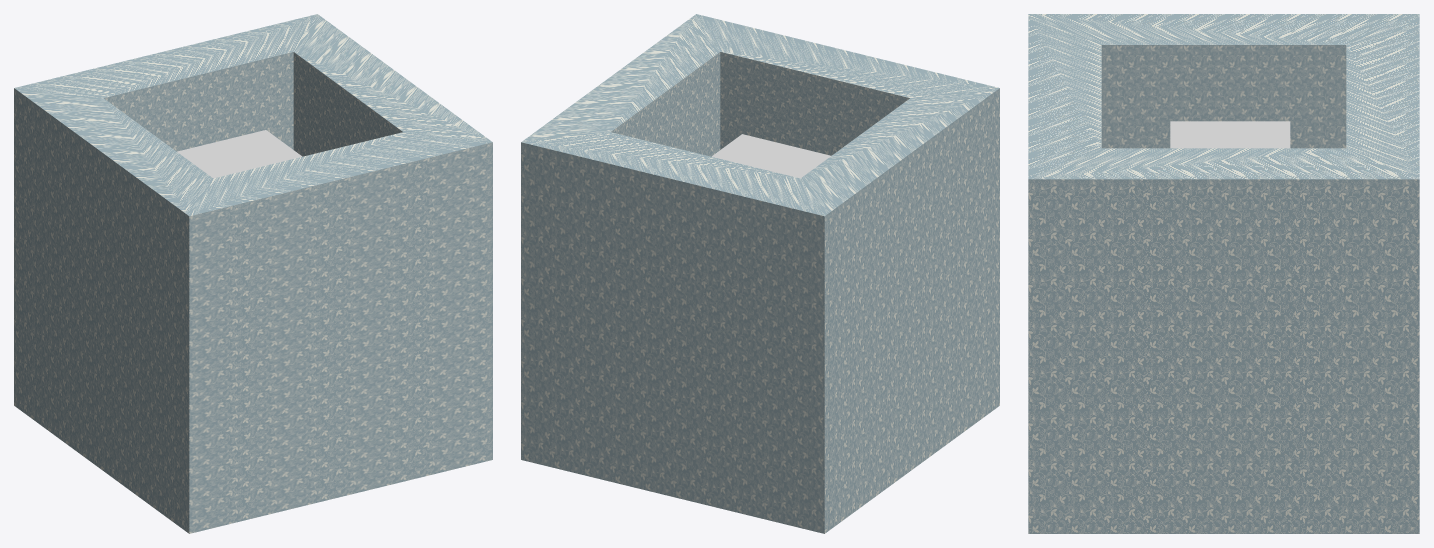
File: monkey2.glb
3 views of the same model, side by side, from view 1: azimuth 30°, elevation 25°; view 2: azimuth 150°, elevation 25°; view 3: azimuth 270°, elevation 25° (orthographic). The views are drawn at different scales.
Parts seen in each view (by area): view 1: house, characterMesh; view 2: house, characterMesh; view 3: house, characterMesh.
Boxes of the visible parts, <box> form: house: <box>14,14,492,533</box>; characterMesh: <box>177,130,301,178</box>; house: <box>521,14,999,533</box>; characterMesh: <box>712,134,831,178</box>; house: <box>1028,14,1419,533</box>; characterMesh: <box>1170,121,1290,148</box>.
Bounding box in the file's own units: 10 × 10 × 10.
Materials: 2 (2 with a texture image).
